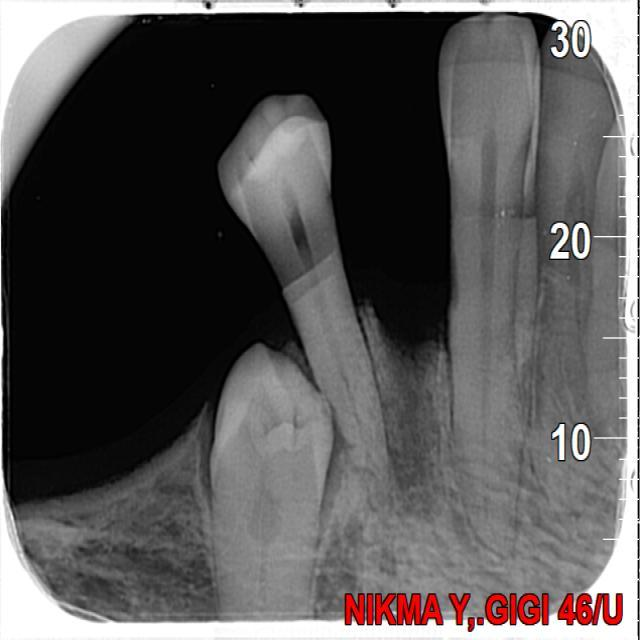individual-tooth-8tto: (217, 88, 382, 463), (433, 11, 543, 553), (207, 344, 339, 635)
